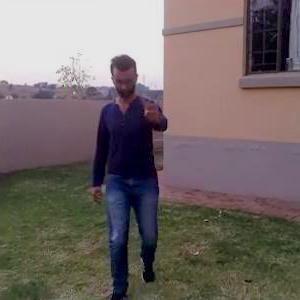takeoff-hand: (138, 85, 166, 128)
